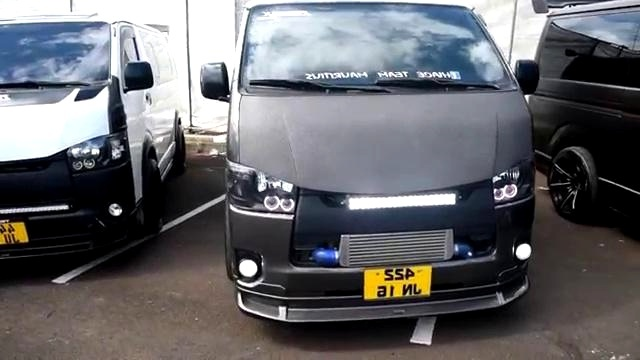van: (225, 1, 534, 318), (0, 12, 185, 276)
